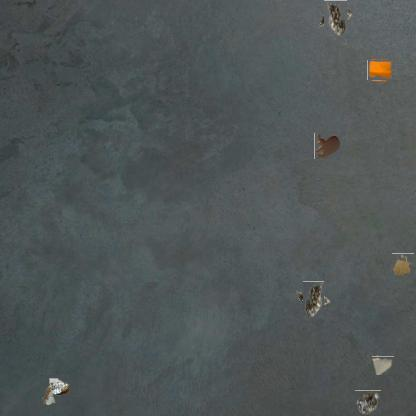dirty: (320, 3, 351, 33), (40, 376, 70, 406), (299, 285, 328, 315), (355, 390, 381, 415), (369, 59, 391, 82), (372, 356, 394, 375)
liquid: (315, 133, 341, 160), (392, 254, 415, 276)
